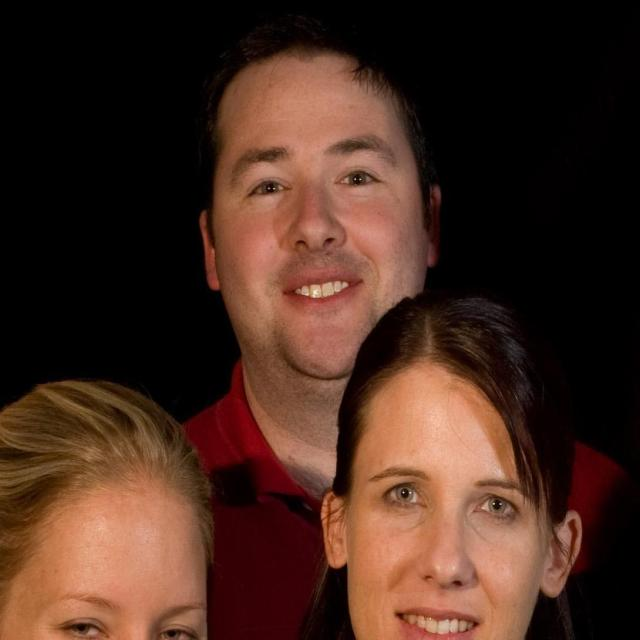no-glass: (388, 479, 524, 522), (243, 165, 382, 205)
